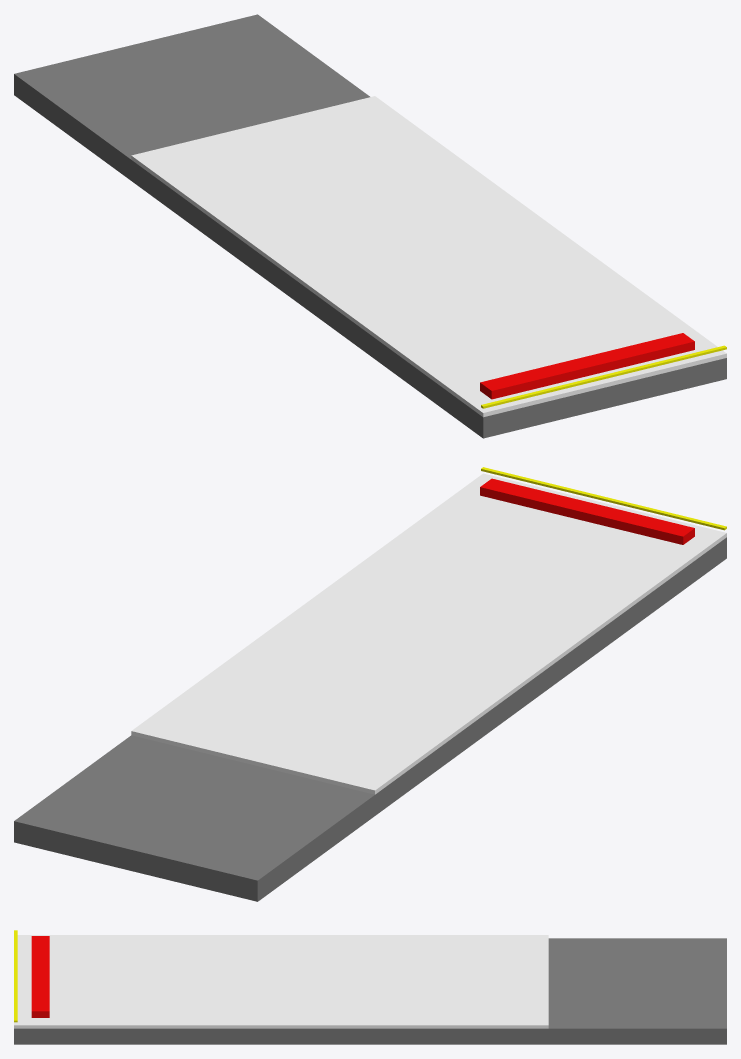
The model's file is Xe bán hàng, đèn led + kính 60 x 150 x 200.obj.
3 views of the same model, one above another, from view 1: azimuth 30°, elevation 25°; view 2: azimuth 150°, elevation 25°; view 3: azimuth 270°, elevation 25° (orthographic). The views are drawn at different scales.
Parts seen in each view (by area): view 1: be_mat_bien_quang_cao, khung_sat_do, chu_noi, den_led; view 2: be_mat_bien_quang_cao, khung_sat_do, chu_noi, den_led; view 3: be_mat_bien_quang_cao, khung_sat_do, chu_noi, den_led.
Boxes of the visible parts, left/top/right/bottom form: be_mat_bien_quang_cao: left=131, top=96, right=726, bottom=417; khung_sat_do: left=14, top=14, right=726, bottom=438; chu_noi: left=480, top=333, right=694, bottom=399; den_led: left=481, top=345, right=726, bottom=408; be_mat_bien_quang_cao: left=131, top=473, right=726, bottom=794; khung_sat_do: left=14, top=537, right=726, bottom=901; chu_noi: left=480, top=478, right=694, bottom=544; den_led: left=481, top=467, right=726, bottom=530; be_mat_bien_quang_cao: left=14, top=935, right=548, bottom=1028; khung_sat_do: left=14, top=938, right=726, bottom=1044; chu_noi: left=31, top=936, right=49, bottom=1017; den_led: left=14, top=930, right=17, bottom=1022.
Size of the model in its own units: 0.6 by 0.08 by 2.
